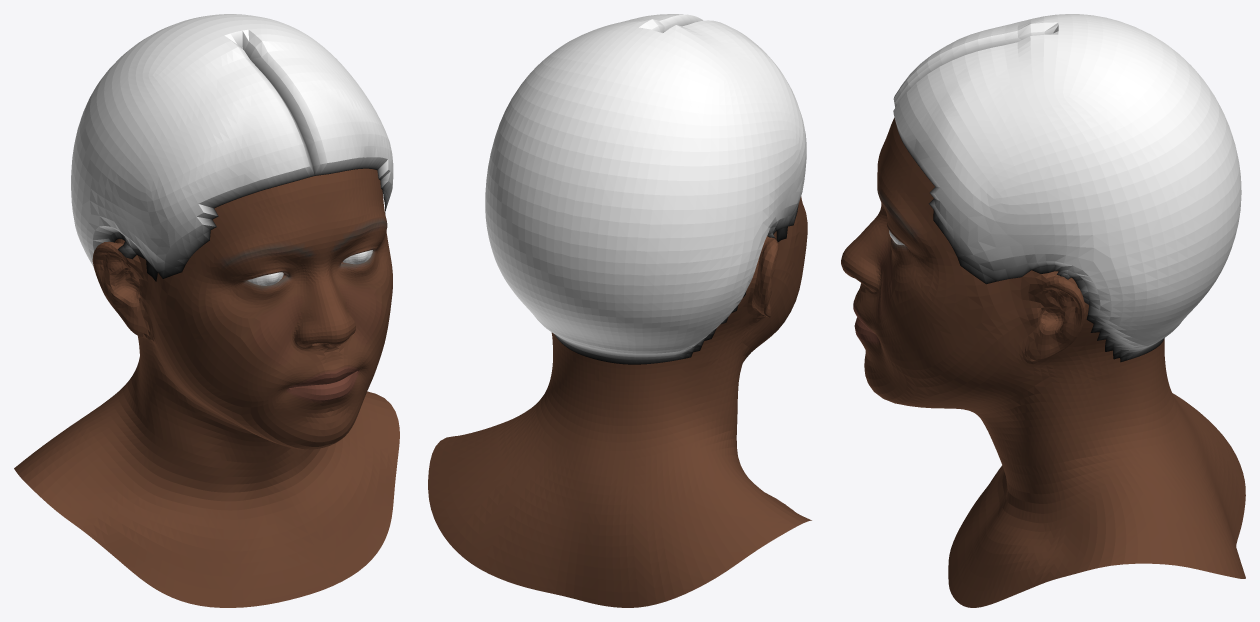
The model's file is lakshmi.glb.
The picture shows the model from 3 angles, left to right: view 1: azimuth 30°, elevation 25°; view 2: azimuth 150°, elevation 25°; view 3: azimuth 270°, elevation 25°; orthographic projection. The views are drawn at different scales.
Parts seen in each view (by area): view 1: gnm_head; view 2: gnm_head; view 3: gnm_head.
Part boxes in pixels (x1,y1,x2,y2): gnm_head: (14,14,399,607); gnm_head: (428,14,811,607); gnm_head: (841,14,1245,607).
Bounding box in the file's own units: 0.2547 × 0.3594 × 0.2418.
